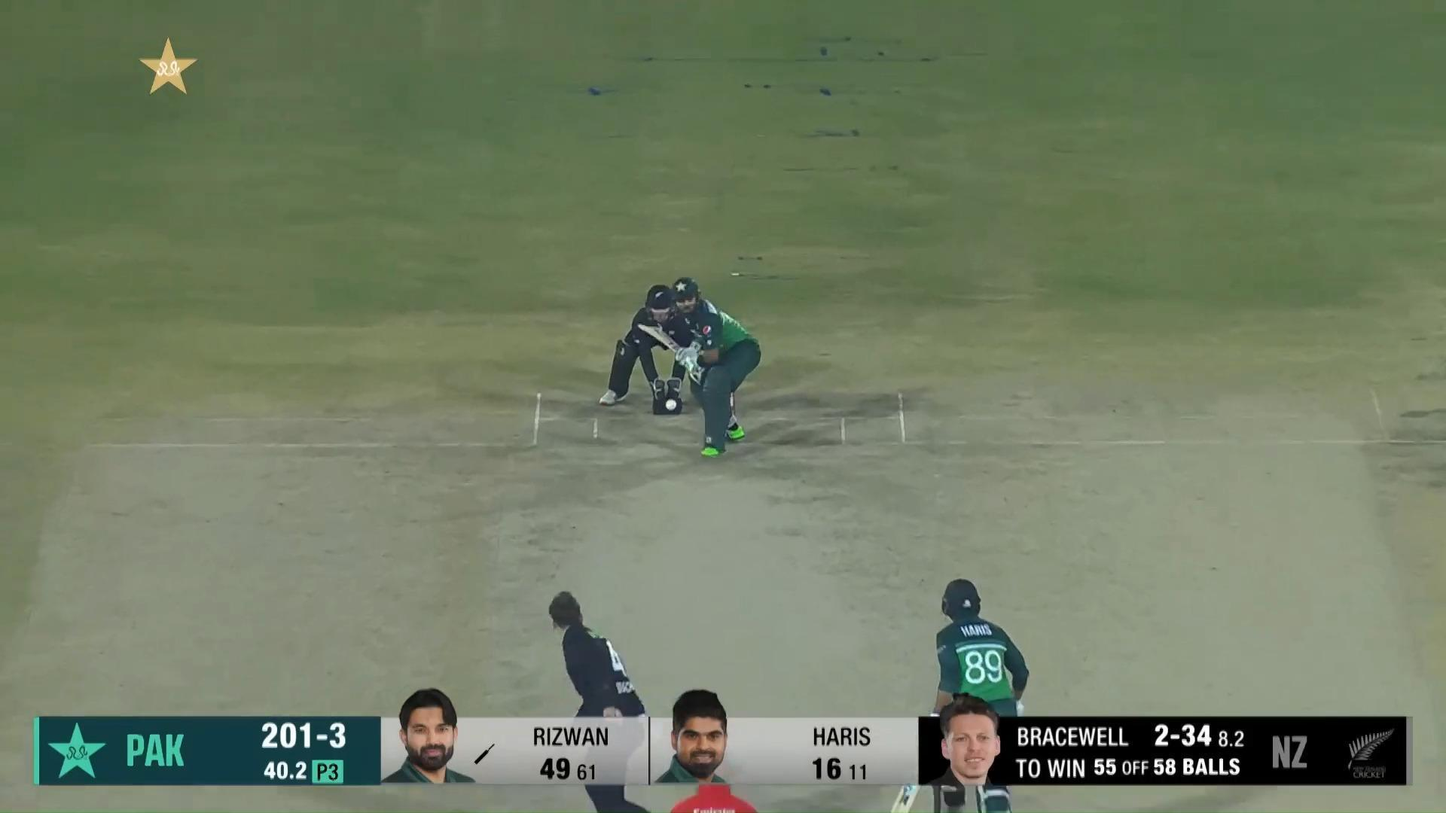BM 1: (636, 274, 763, 460)
BO: (549, 590, 652, 813)
